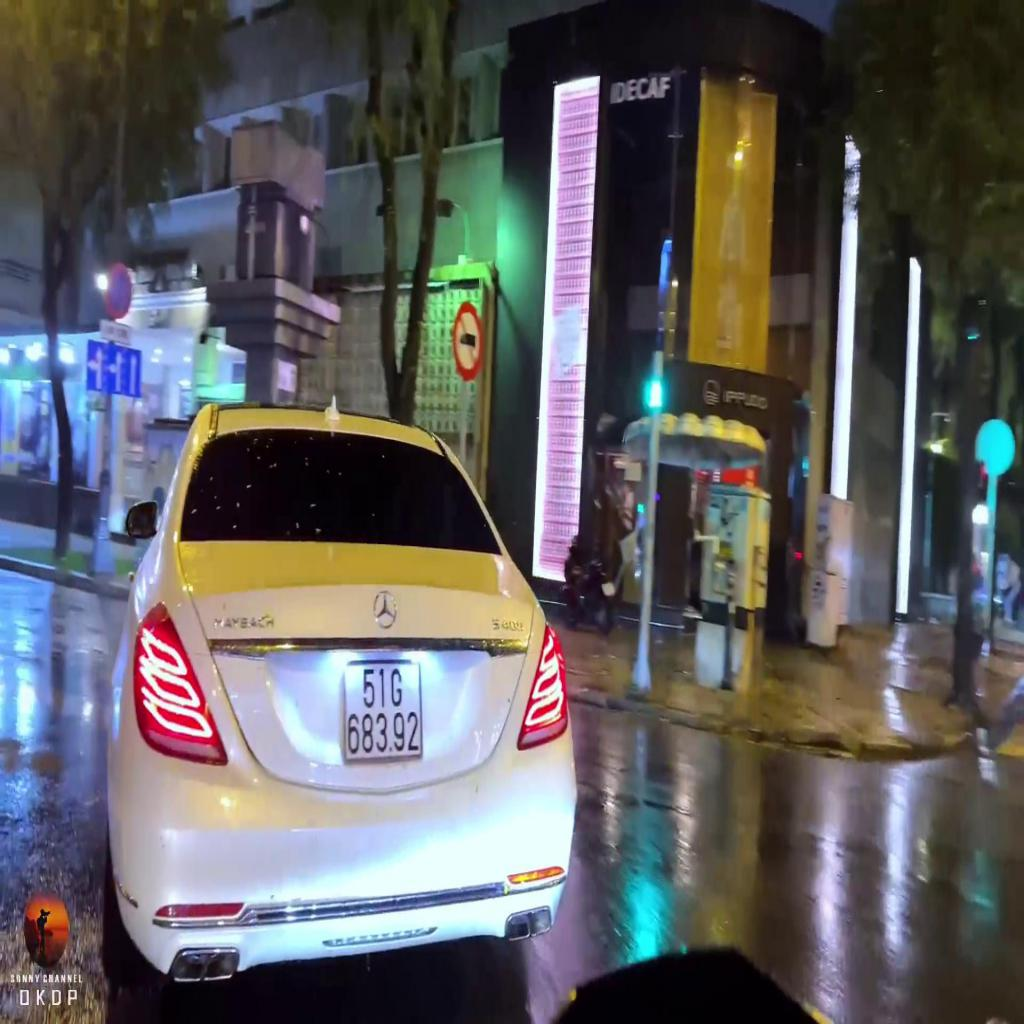cam_do_xe: (107, 262, 132, 320)
cam_o_to_tai: (452, 300, 482, 379)
huong_di_tren_moi_lan_duong_theo_vach_ke_duong: (87, 339, 141, 400)
